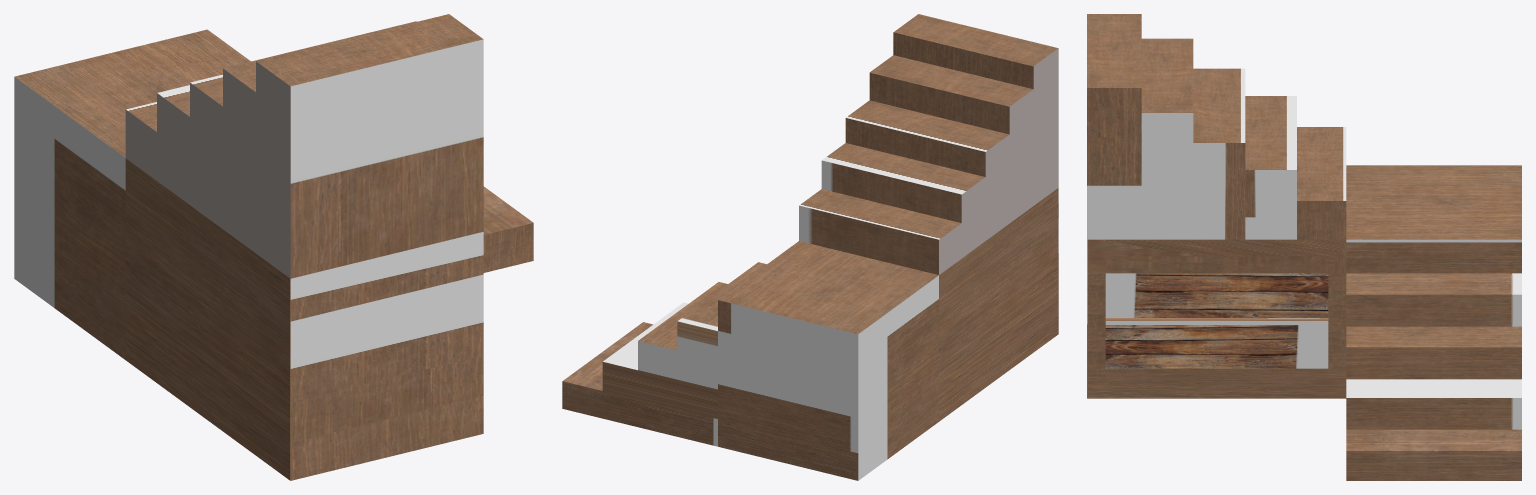
The model's file is scala2house2.fbx.
3 renders of one model, left to right at view 1: azimuth 30°, elevation 25°; view 2: azimuth 150°, elevation 25°; view 3: azimuth 270°, elevation 25°, orthographic. The views are drawn at different scales.
Visible parts, largest first — view 1: Cube; view 2: Cube; view 3: Cube.
Boxes of the visible parts, left/top/right/bottom form: Cube: left=14, top=14, right=533, bottom=480; Cube: left=562, top=14, right=1058, bottom=480; Cube: left=1087, top=14, right=1521, bottom=480.
Bounding box in the file's own units: 422 × 390 × 495.
